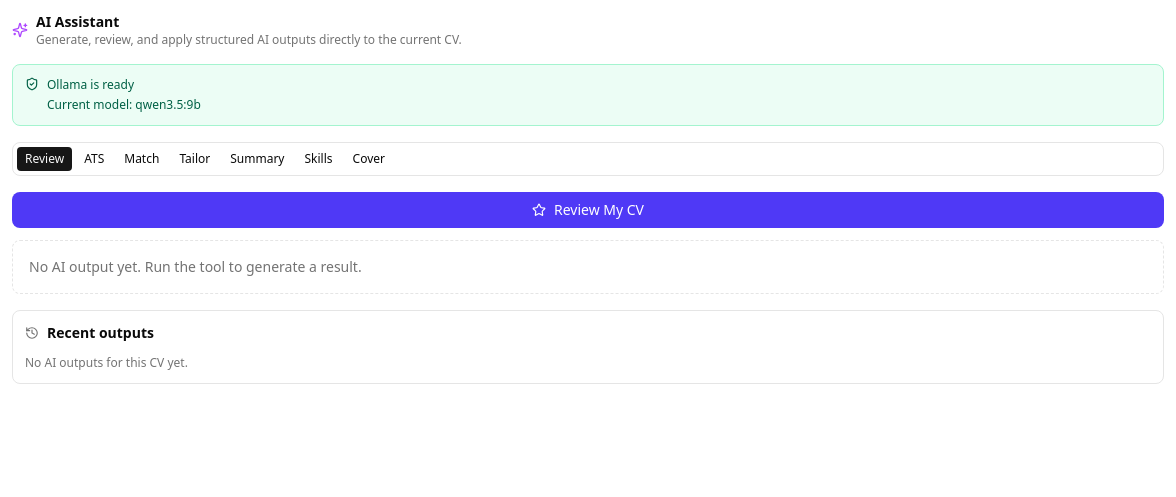
Test: AIAssistPanel › shows applied status for the current summary artifact after apply succeeds
What coordinates should you click on to do the following:
click the button with test id "ai-tab-summary"
I would click on:
 (257, 159)
Its box is [222,147,292,171].
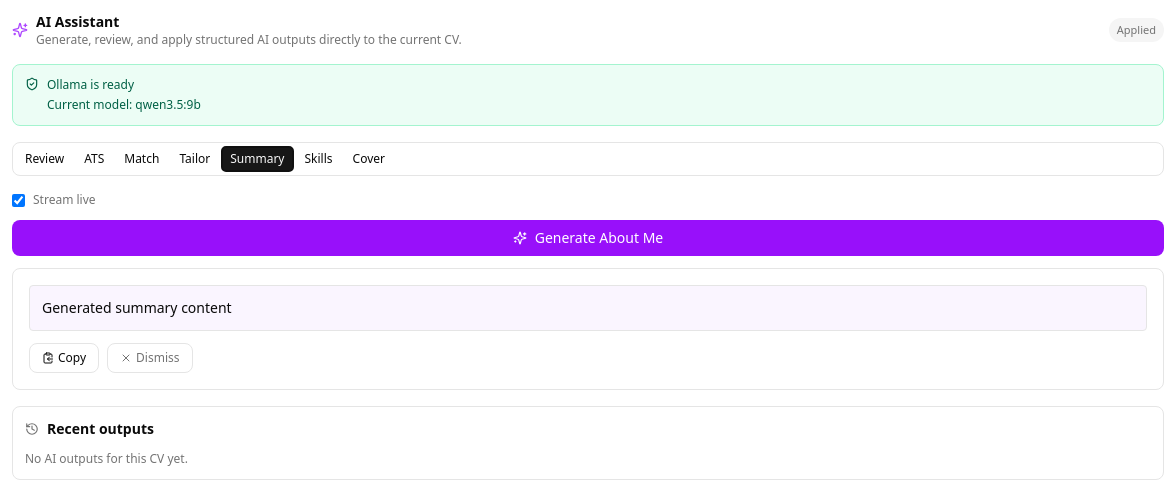
Expected: the text with test id "ai-current-artifact-status" reads "Applied", [1117,22,1156,37]
